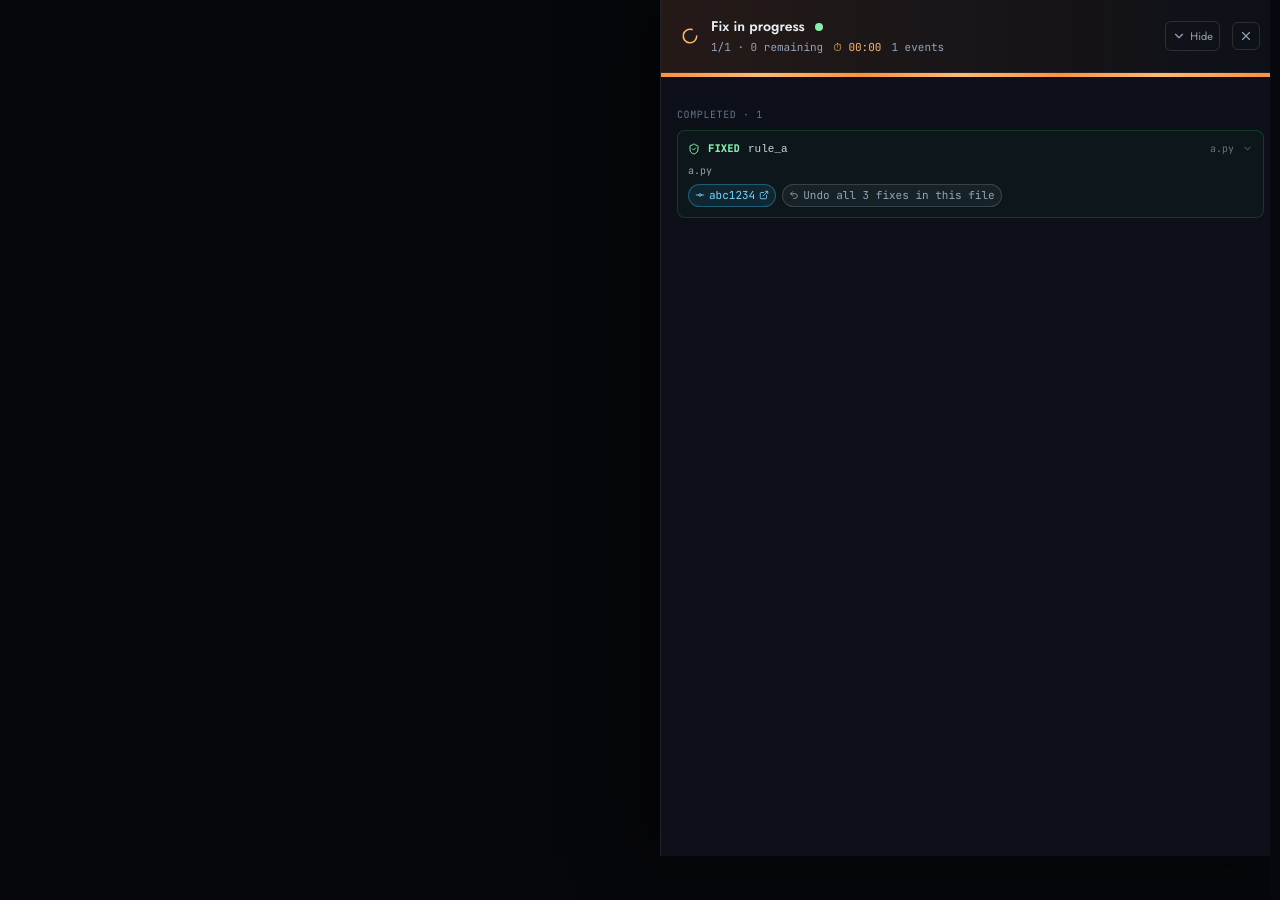
FixProgressDrawer — Part 2b R6 undo/revert › Part 2c C1 — shows 'Undo all N fixes in this file' when sibling_count > 1
The image size is (1280, 900).
What coordinates should you click on to do the following:
click the button with test id "fix-row-undo-f1"
I would click on:
 (892, 195)
Its box is [782,184,1002,206].
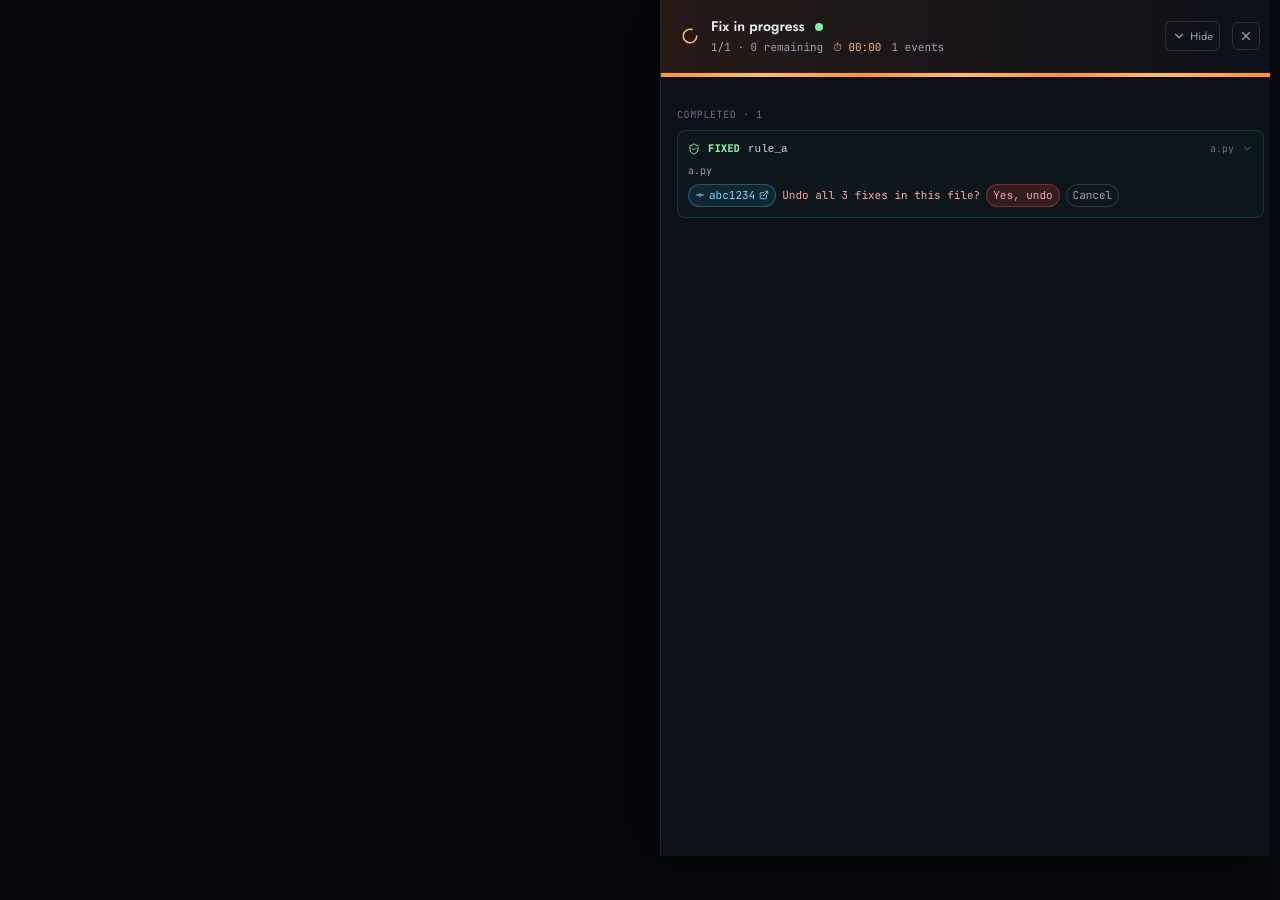
Expected: the text "Undo all 3 fixes in this file?" is shown, [782,187,980,204]
